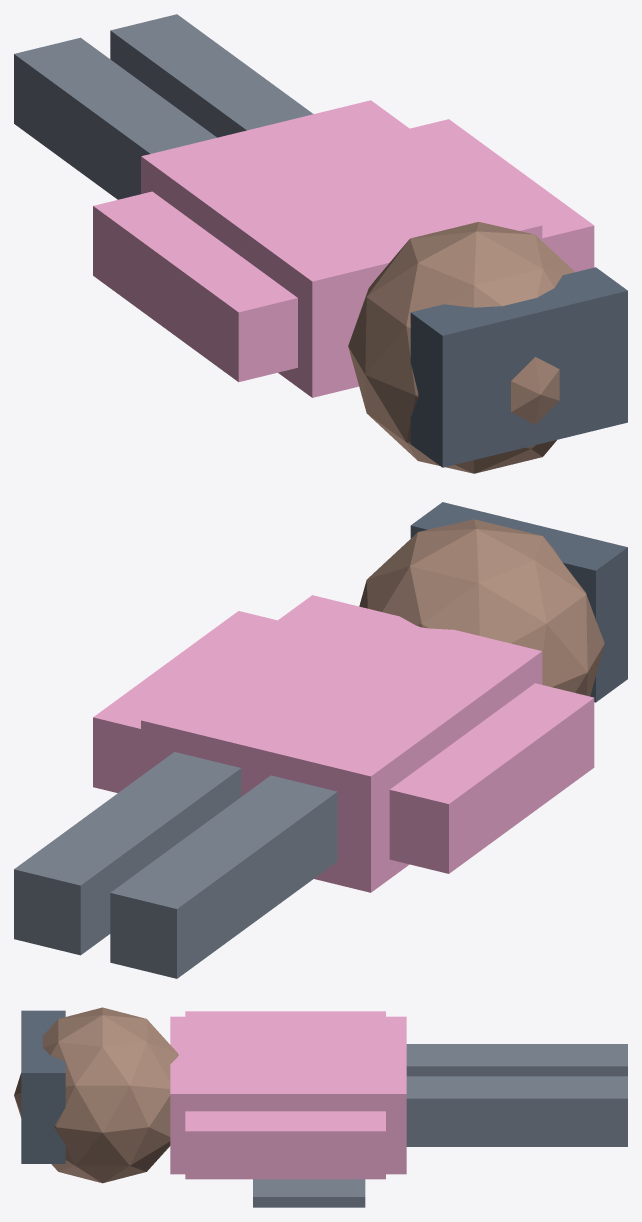
The model's file is hr_variant_4.glb.
3 renders of one model, top to bottom at view 1: azimuth 30°, elevation 25°; view 2: azimuth 150°, elevation 25°; view 3: azimuth 270°, elevation 25°, orthographic. The views are drawn at different scales.
Visible parts, largest first — view 1: torso_2, hair_6, head_5, arm_l_3, leg_l_0, leg_r_1, arm_r_4; view 2: torso_2, leg_l_0, head_5, arm_l_3, leg_r_1, arm_r_4, hair_6; view 3: torso_2, head_5, leg_r_1, arm_r_4, leg_l_0, hair_6, tablet_7, arm_l_3.
Part boxes in pixels (x1,y1,x2,y2): torso_2: [141, 100, 542, 397]; hair_6: [410, 267, 627, 467]; head_5: [348, 222, 574, 473]; arm_l_3: [93, 191, 297, 382]; leg_l_0: [14, 37, 216, 199]; leg_r_1: [110, 14, 313, 137]; arm_r_4: [410, 119, 594, 271]; torso_2: [141, 595, 542, 892]; leg_l_0: [110, 775, 337, 978]; head_5: [359, 519, 604, 696]; arm_l_3: [389, 683, 594, 873]; leg_r_1: [14, 752, 241, 955]; arm_r_4: [93, 611, 277, 792]; hair_6: [410, 502, 627, 702]; torso_2: [170, 1016, 406, 1174]; head_5: [14, 1007, 178, 1183]; leg_r_1: [406, 1076, 627, 1146]; arm_r_4: [185, 1111, 385, 1179]; leg_l_0: [406, 1044, 627, 1076]; hair_6: [21, 1010, 65, 1163]; tablet_7: [253, 1179, 365, 1207]; arm_l_3: [185, 1011, 385, 1016].
Size of the model in its own units: 0.96 by 0.6 by 2.08.
